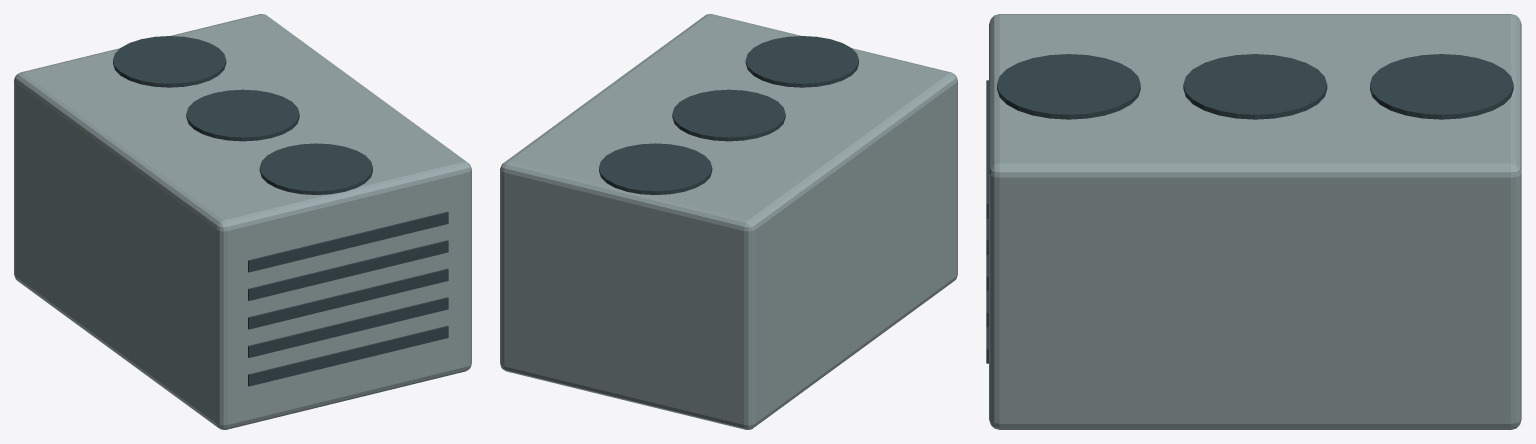
The model's file is roof-unit.glb.
3 views of the same model, side by side, from view 1: azimuth 30°, elevation 25°; view 2: azimuth 150°, elevation 25°; view 3: azimuth 270°, elevation 25° (orthographic). The views are drawn at different scales.
Parts seen in each view (by area): view 1: equipment-housing, fan-vent.002, fan-vent, fan-vent.001, vent-louvre.002, vent-louvre.003, vent-louvre.004, vent-louvre, vent-louvre.001; view 2: equipment-housing, fan-vent, fan-vent.002, fan-vent.001; view 3: equipment-housing, fan-vent.001, fan-vent.002, fan-vent.
Boxes of the visible parts, <box> form: equipment-housing: <box>14,14,471,429</box>; fan-vent.002: <box>113,36,226,87</box>; fan-vent: <box>259,143,372,194</box>; fan-vent.001: <box>186,89,299,141</box>; vent-louvre.002: <box>248,268,448,329</box>; vent-louvre.003: <box>248,240,448,300</box>; vent-louvre.004: <box>248,211,448,272</box>; vent-louvre: <box>248,325,448,386</box>; vent-louvre.001: <box>248,297,448,357</box>; equipment-housing: <box>500,14,957,429</box>; fan-vent: <box>745,36,858,87</box>; fan-vent.002: <box>599,143,712,194</box>; fan-vent.001: <box>672,89,785,141</box>; equipment-housing: <box>989,14,1521,429</box>; fan-vent.001: <box>1183,54,1327,119</box>; fan-vent.002: <box>1370,54,1513,119</box>; fan-vent: <box>997,54,1140,119</box>.
Size of the model in its own units: 1.4 by 1.12 by 2.01.
